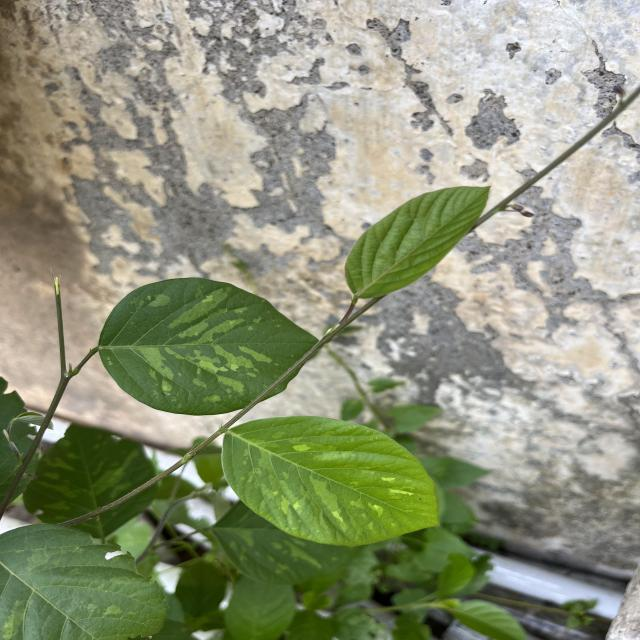Desmodium gangeticum: (94, 274, 326, 418), (219, 414, 445, 550)
